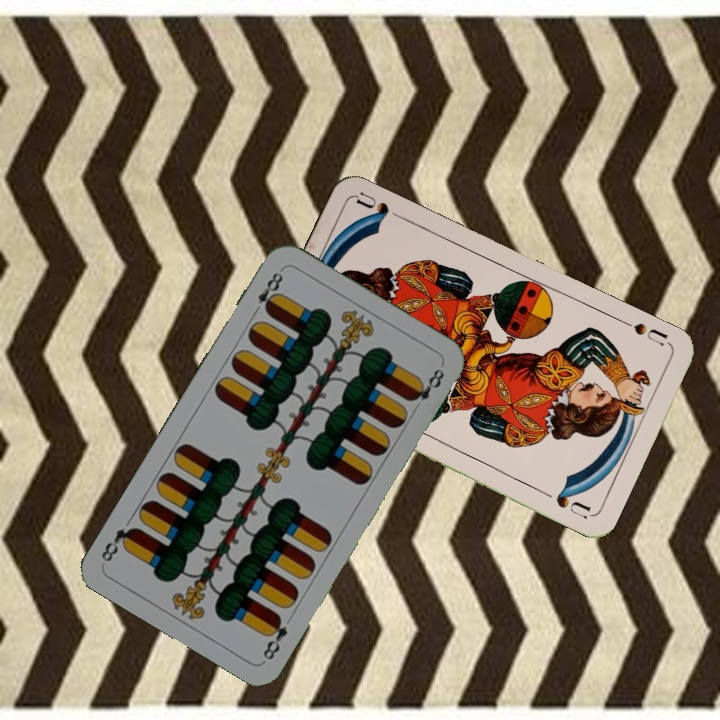E8: (248, 268, 286, 318), (258, 611, 290, 663)
SU: (617, 316, 670, 349)
